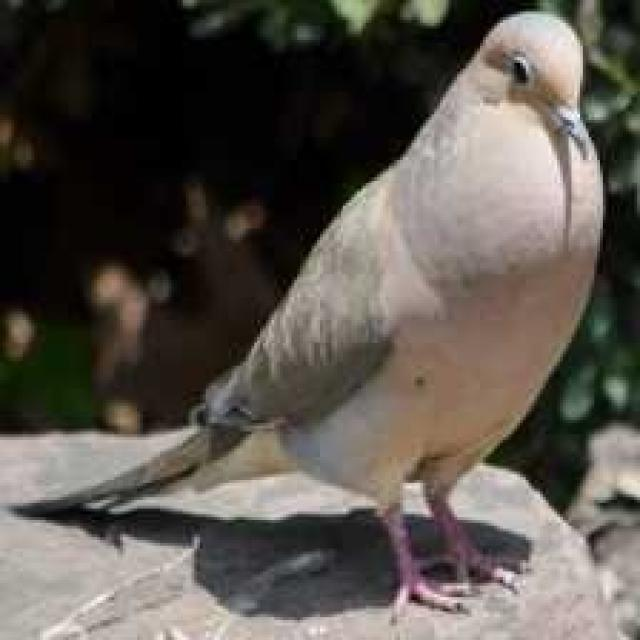bird: (11, 6, 618, 630)
